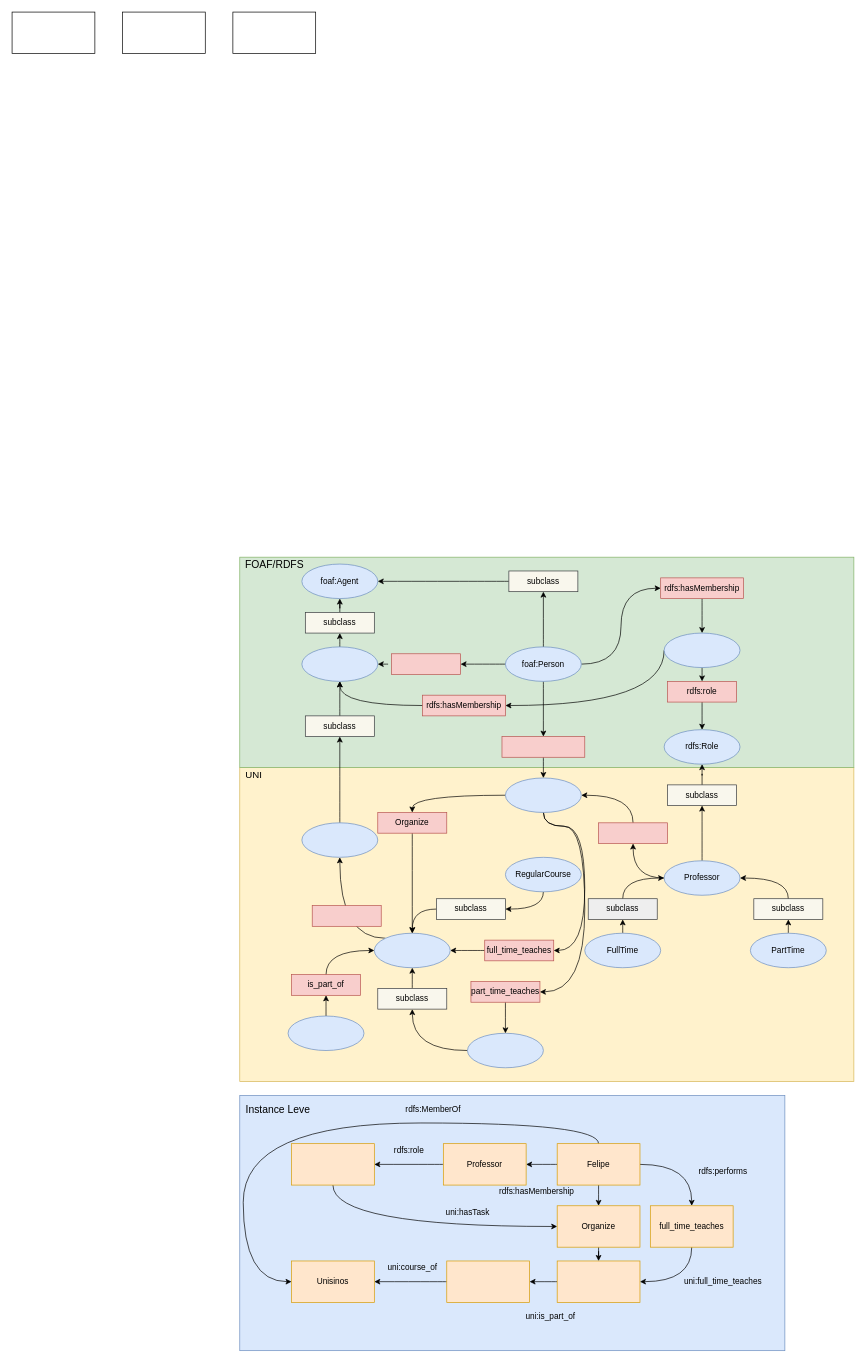
The diagram is 866 pixels wide and 1363 high, and some of its shapes have lost their labels. Here are the shapes that lost their labels. From the top down, the centre of each, then its label:
(x=339, y=663): foaf:Organization
(x=426, y=663): rdfs:member_of
(x=701, y=650): foaf:Membership
(x=543, y=746): rdfs:make
(x=543, y=794): Tasks
(x=339, y=839): EducationEntity
(x=633, y=833): hasTask
(x=346, y=915): course_of
(x=412, y=950): Course
(x=325, y=1033): Subject
(x=505, y=1050): LabCourse
(x=332, y=1164): FullTimeProfessor
(x=488, y=1281): Computing Eng
(x=598, y=1281): WebSemantica
